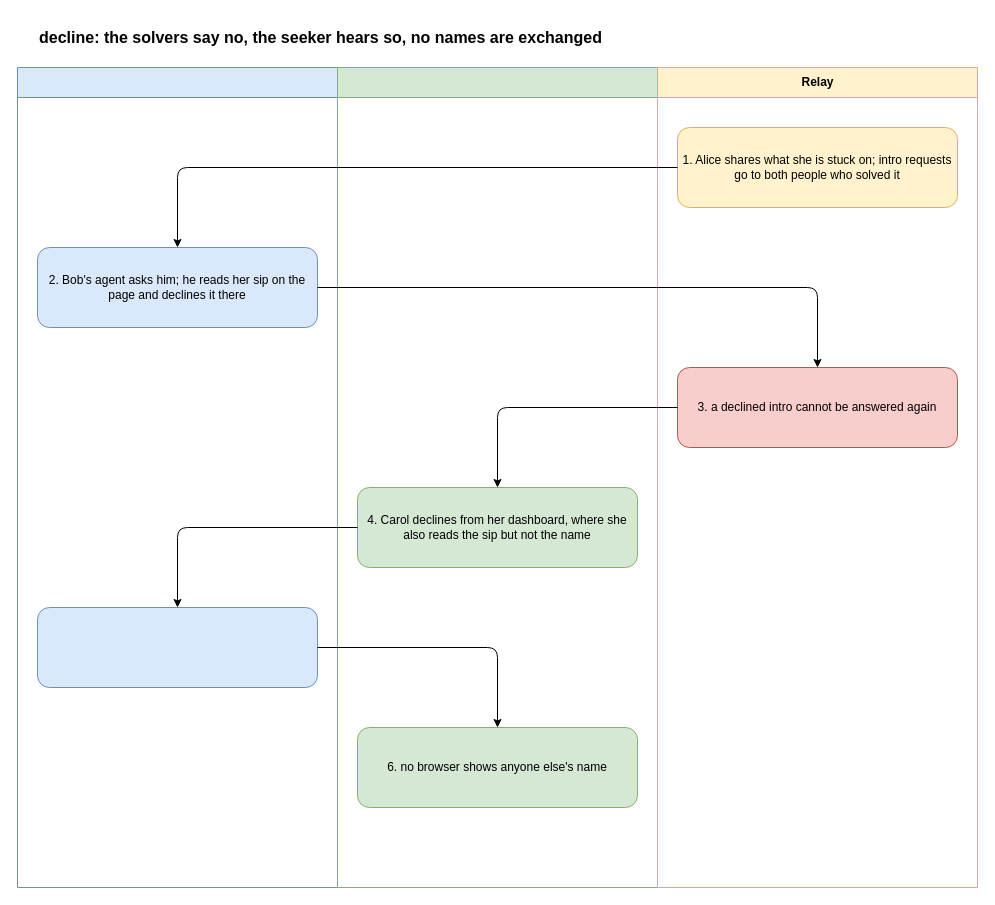
This 995x905 diagram has some shape labels left out. The shapes that lost their labels are listed below. From the top down, each one's box as (x1, y1, x2, y2) in pixels, then its label:
(16, 66, 338, 888): Agent (MCP client)
(336, 66, 658, 888): Person (browser)
(36, 606, 318, 688): 5. Alice's agent hears both intros were declined, and nothing about who
